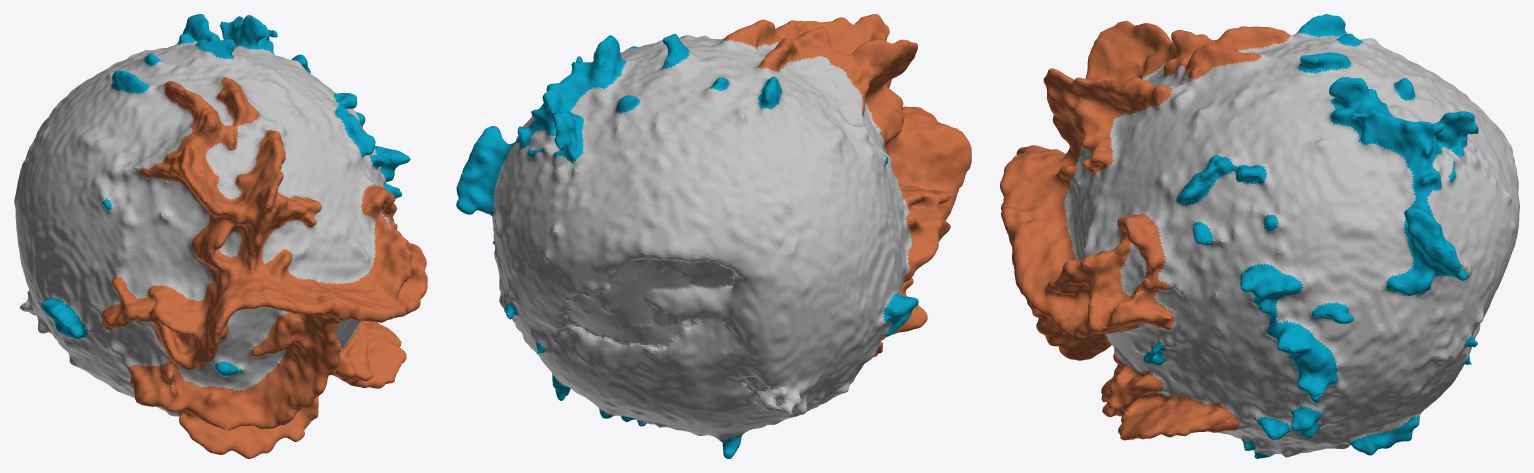
3 views of the same model, side by side, from view 1: azimuth 30°, elevation 25°; view 2: azimuth 150°, elevation 25°; view 3: azimuth 270°, elevation 25° (orthographic). The views are drawn at different scales.
Size of the model in its own units: 150 by 137 by 165.
